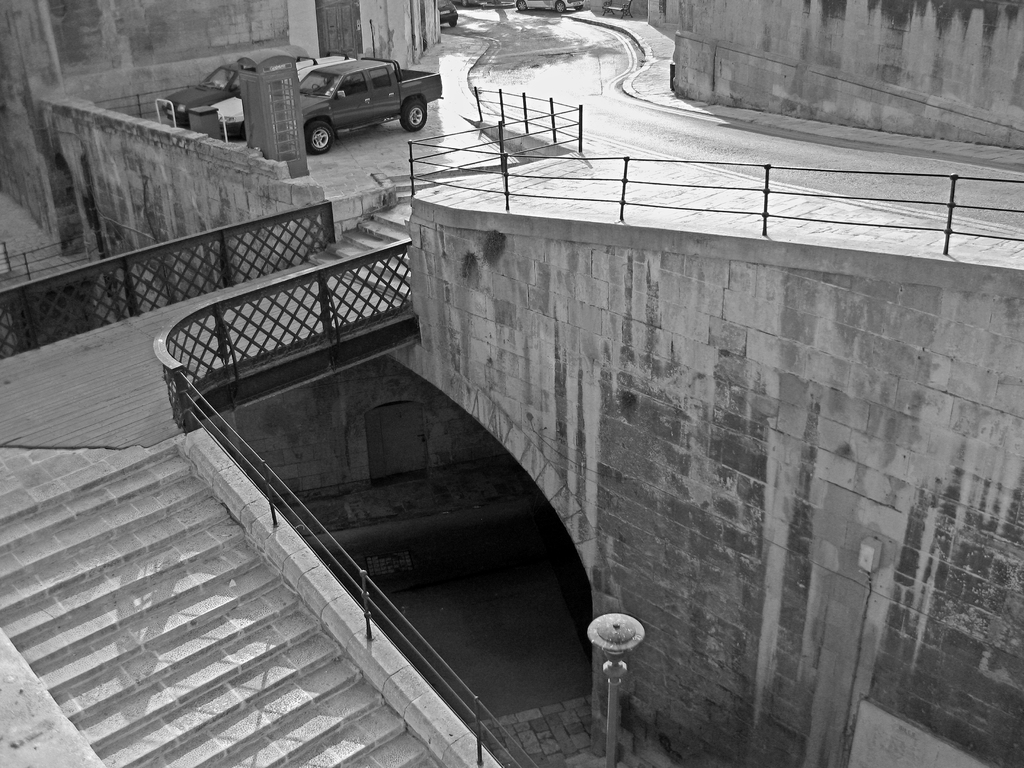Car: (211, 50, 355, 137), (161, 63, 255, 125), (513, 0, 585, 15), (434, 0, 458, 28), (451, 0, 492, 7)
